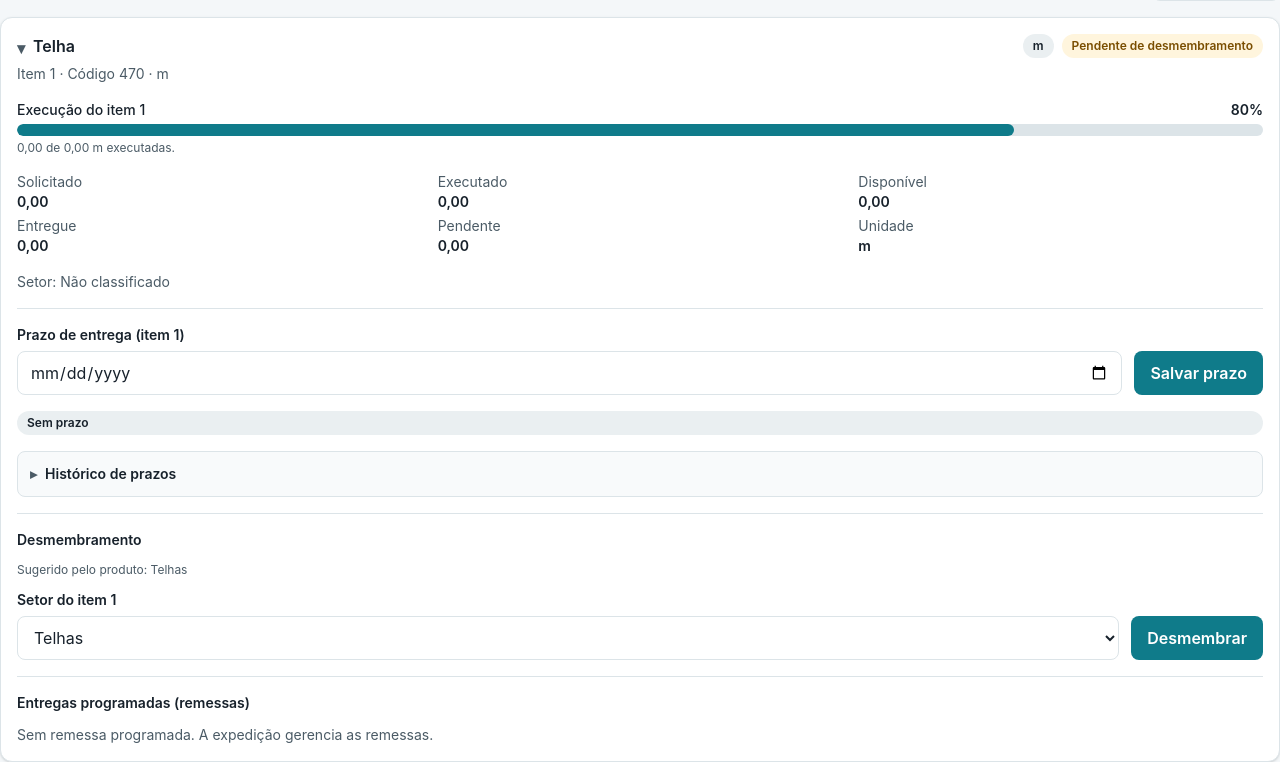
Test case: PedidoVendedorPage › desmembra o item e confirma o resultado
(page scrolled)
Select "Telhas" in the dropdown labelled "Setor do item 1" at [568, 638], box [17,616,1119,660]
Click the button with aria-label "Classificar item 1" at [1197, 638], box [1131,616,1263,660]
(page scrolled)
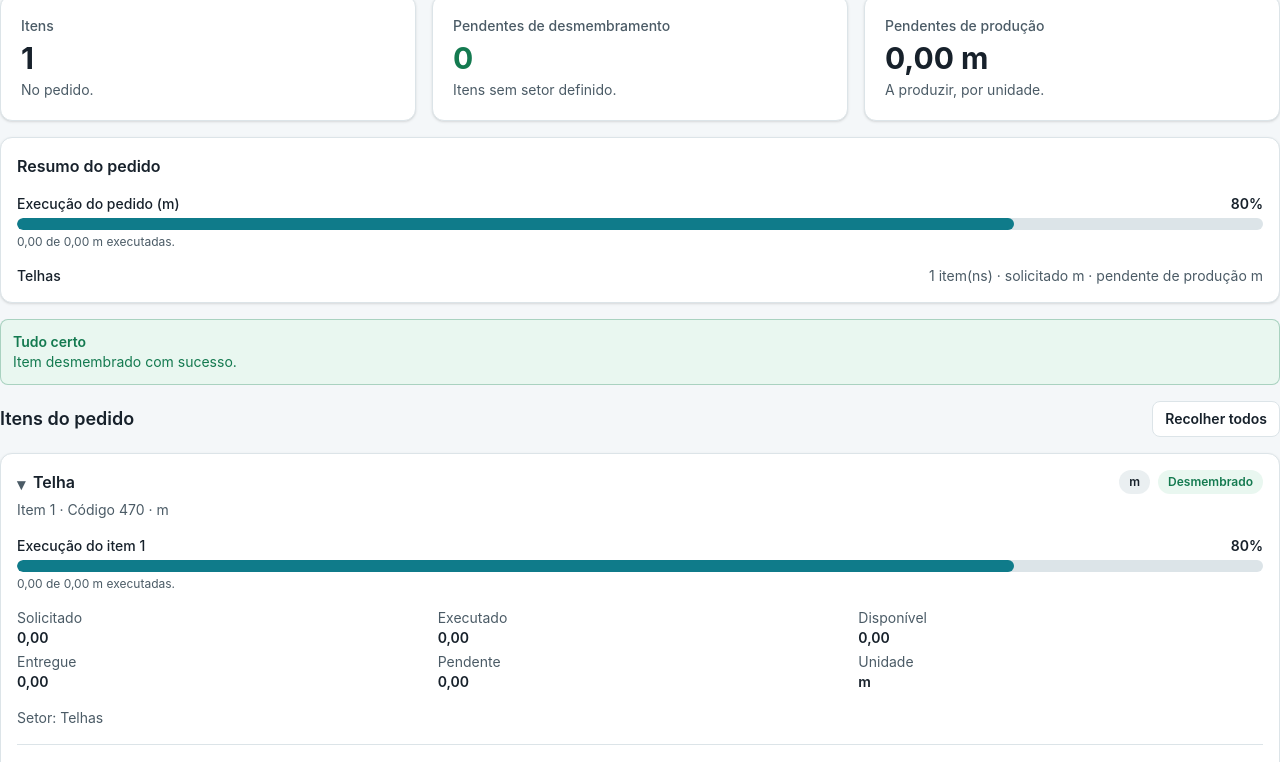
Check: the text "Item desmembrado com sucesso." is shown, box [13,352,237,372]
